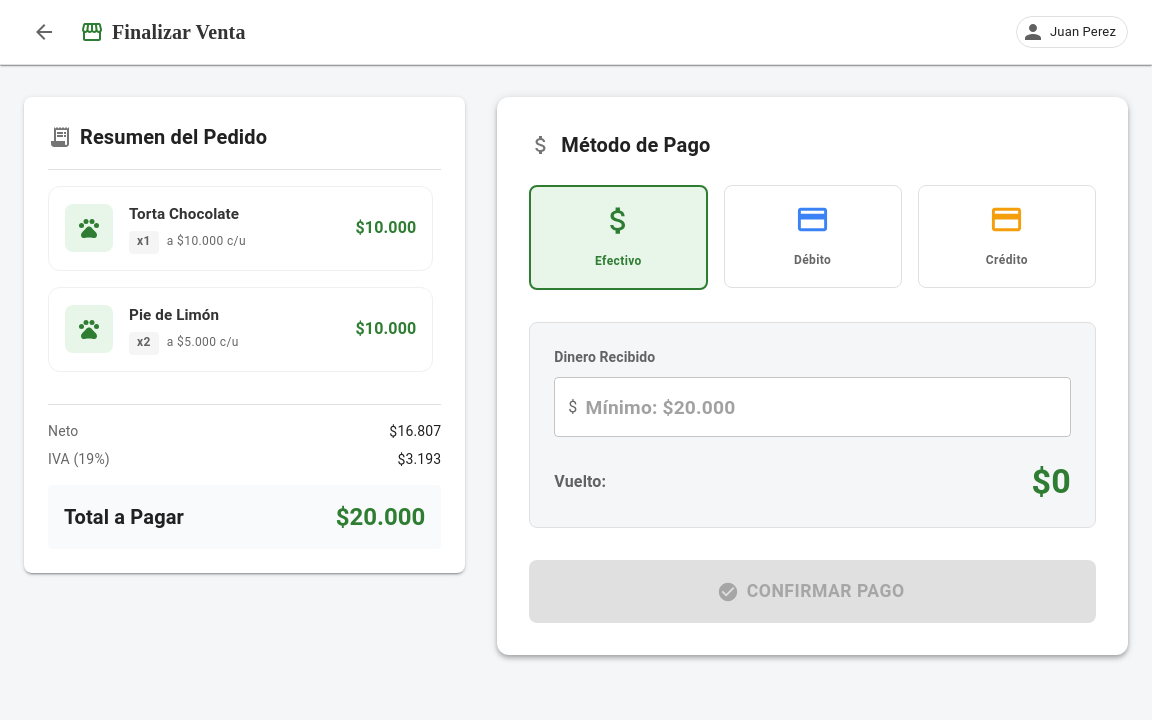
Scenario: Boleta Component › processes sale successfully with cash
Type "20000" into the number field with placeholder "Mínimo: $20.000" at [828, 407], box [586,377,1071,438]
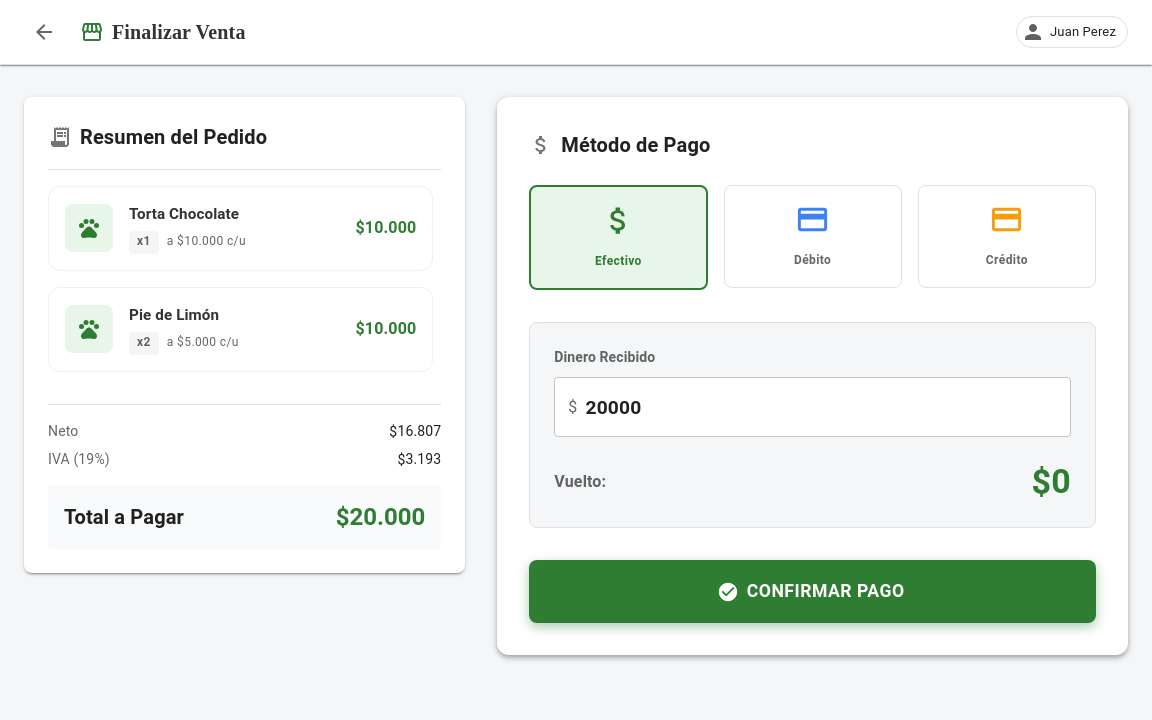
Click the button "CONFIRMAR PAGO" at [813, 592], box [529,560,1096,623]
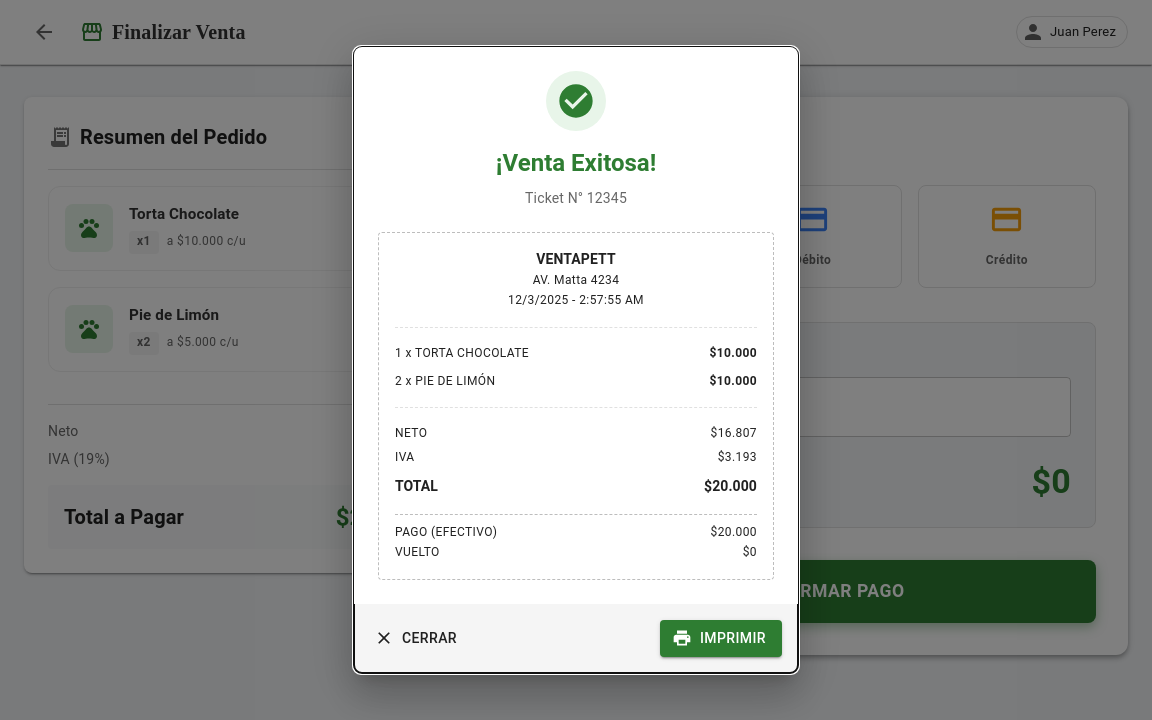
Check: the heading "¡Venta Exitosa!" is shown, box [496,149,656,177]
Check: the text "Ticket N° 12345" is shown, box [525,190,627,206]
